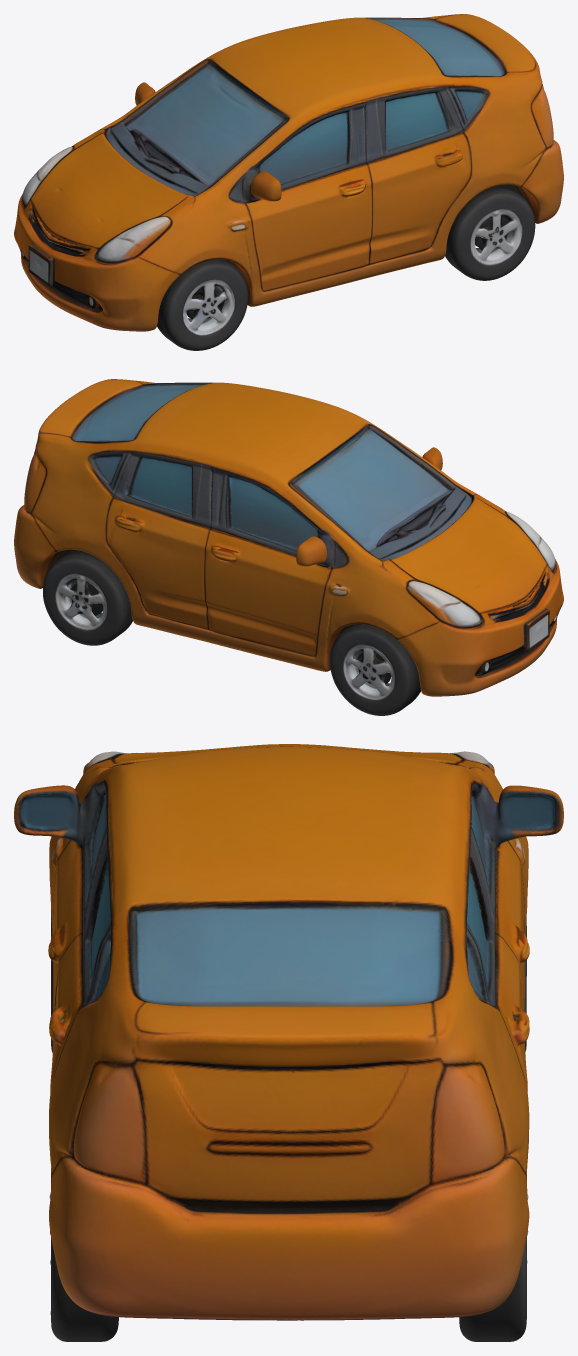
The model's file is Car_Orange.fbx.
3 views of the same model, one above another, from view 1: azimuth 30°, elevation 25°; view 2: azimuth 150°, elevation 25°; view 3: azimuth 270°, elevation 25° (orthographic). The views are drawn at different scales.
Visible parts, largest first — view 1: tripo_node_38404bf6; view 2: tripo_node_38404bf6; view 3: tripo_node_38404bf6.
Part boxes in pixels (box(x1,y1,x2,y2)): tripo_node_38404bf6: box(14, 14, 563, 350); tripo_node_38404bf6: box(14, 379, 563, 715); tripo_node_38404bf6: box(14, 744, 563, 1341).
Bounding box in the file's own units: 100 × 49.71 × 42.16.
